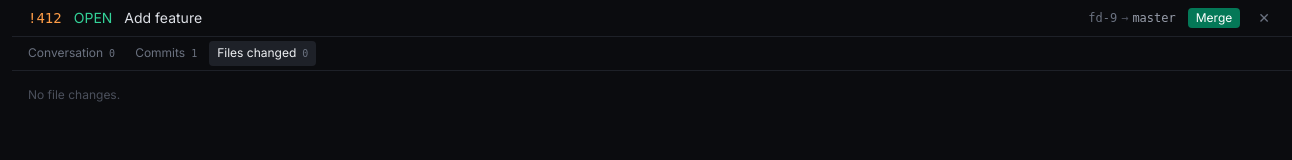
MrReview › copies the full sha from the chip without opening the commit
Click the button named "Commits 1". click: click(166, 54)
box: left=127, top=41, right=205, bottom=66
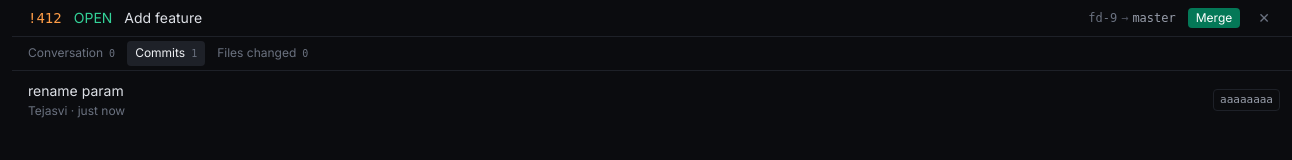
Click the button with aria-label "Copy commit sha aaaaaaaa". click: click(1246, 100)
box: left=1213, top=89, right=1280, bottom=111
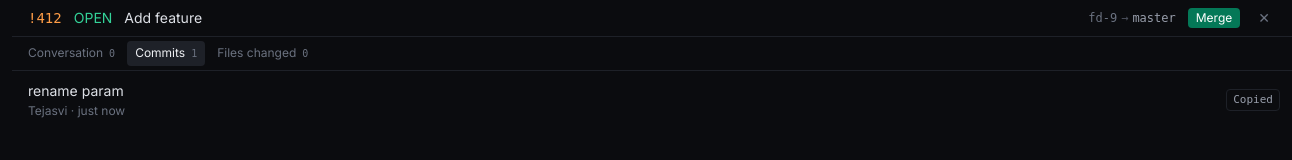
Expected: the button "Copied" is shown, left=1226, top=89, right=1280, bottom=111
